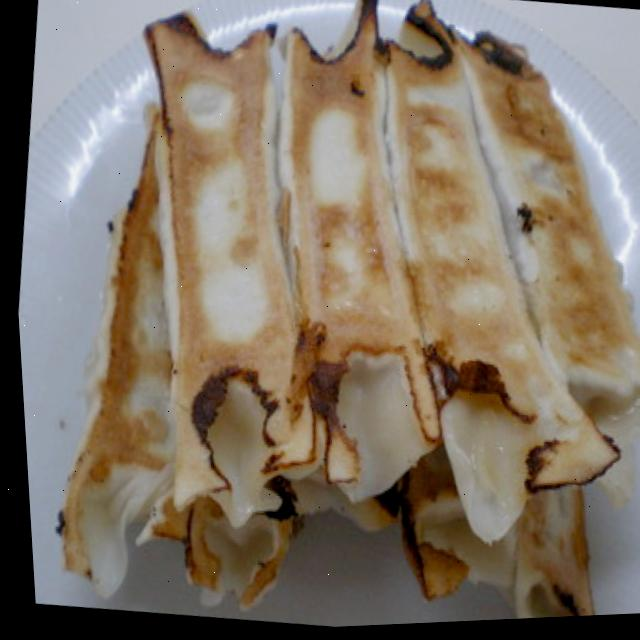带馅早点: (27, 0, 640, 639)
